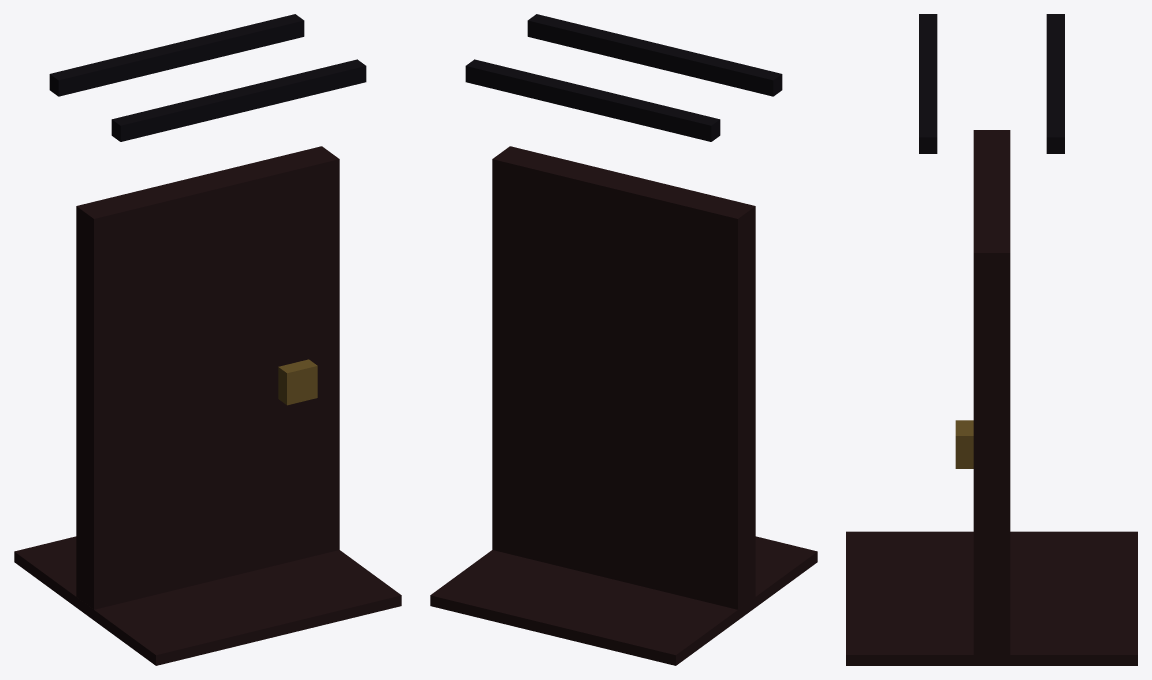
File: door_skeleton.dae
The picture shows the model from 3 angles, left to right: view 1: azimuth 30°, elevation 25°; view 2: azimuth 150°, elevation 25°; view 3: azimuth 270°, elevation 25°; orthographic projection. The views are drawn at different scales.
Visible parts, largest first — view 1: door; view 2: door; view 3: door.
Part boxes in pixels (<box>): door: <box>14,14,401,665</box>; door: <box>430,14,817,665</box>; door: <box>846,14,1137,665</box>.
Bounding box in the file's own units: 1 × 2 × 1.
